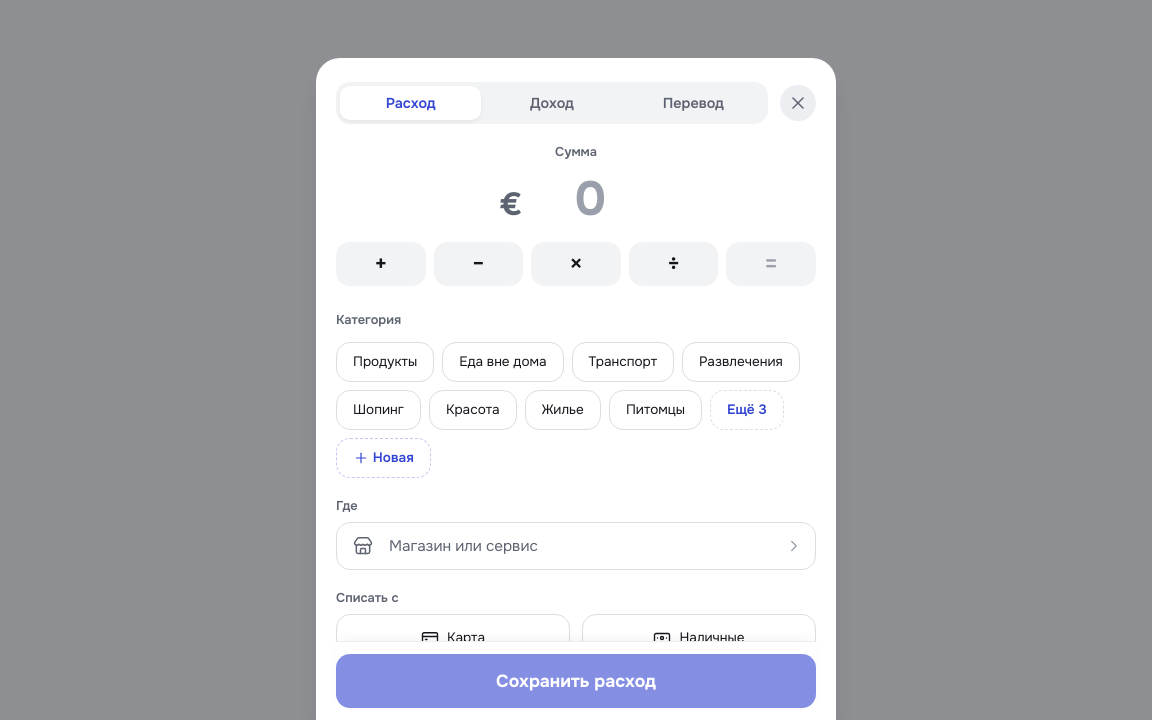
it: AddTransactionForm Component › validates required fields before enabling save button
Expected: the button "Сохранить расход" is disabled, [336,654,816,708]
// Fill amount
Type "100" into the field with placeholder "0" at x=590, y=199, box [526,168,653,230]
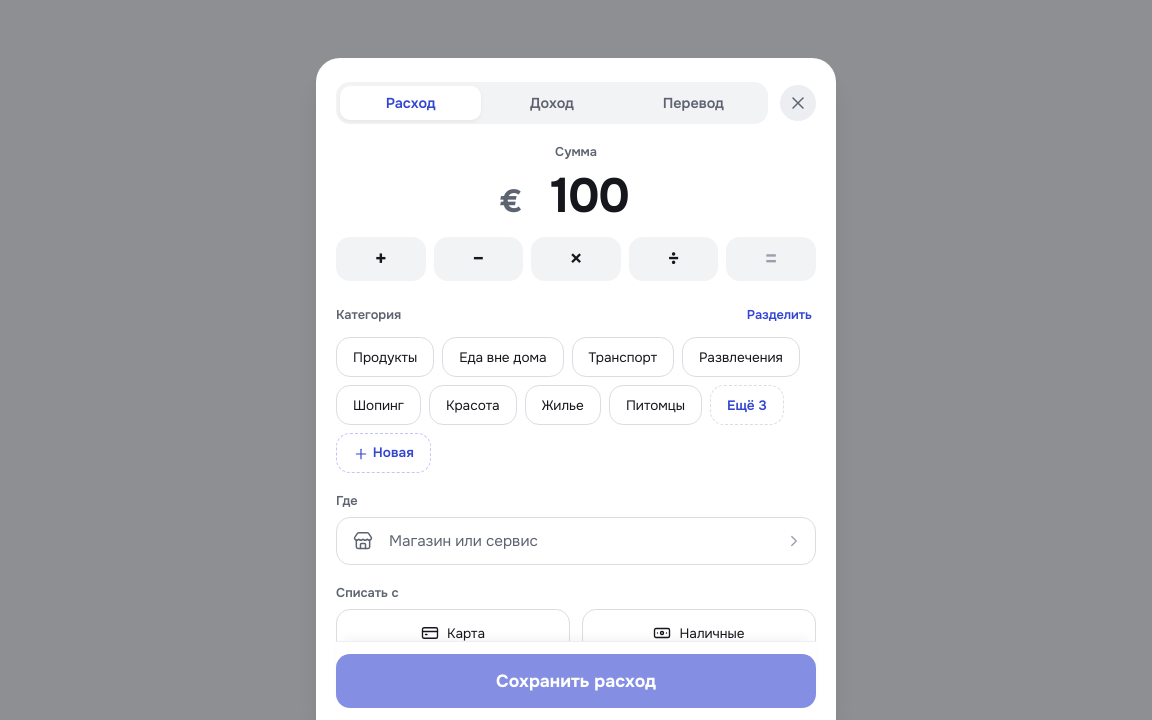
Expected: the button "Сохранить расход" is disabled, [336,654,816,708]
// Select category
Click the button "Продукты" at x=385, y=357, box [336,337,434,377]
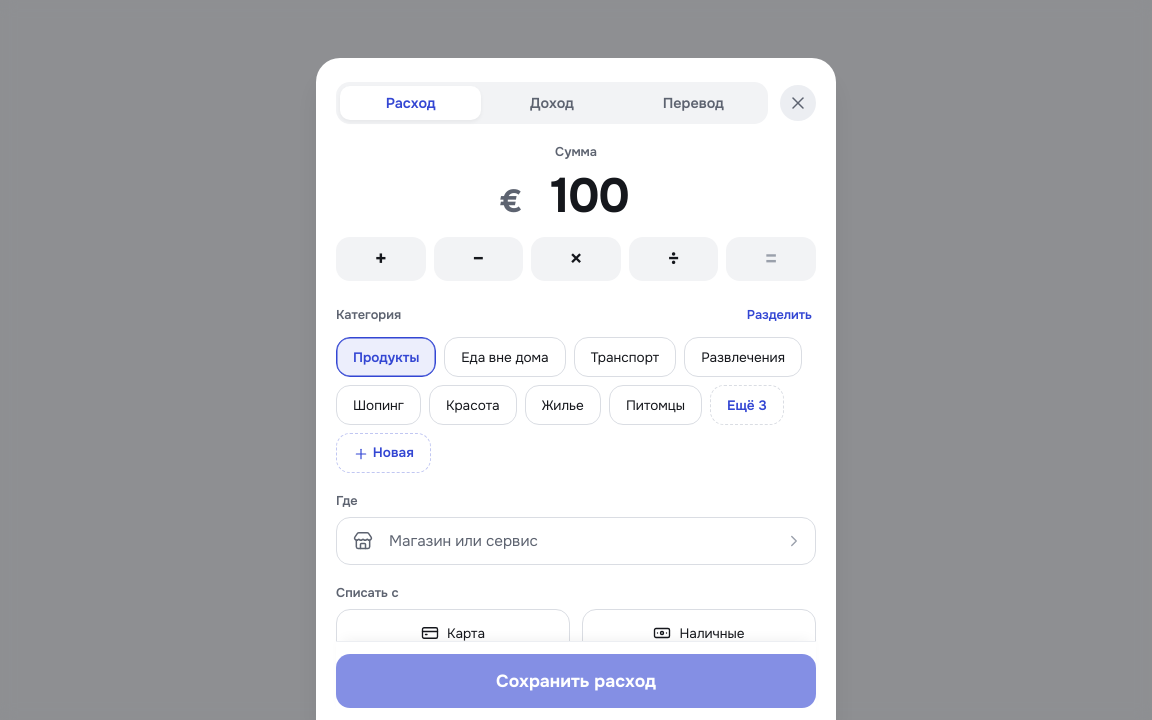
Expected: the button "Сохранить расход" is disabled, [336,654,816,708]
// Select account
Click the button "Карта" at x=453, y=633, box [336,609,570,657]
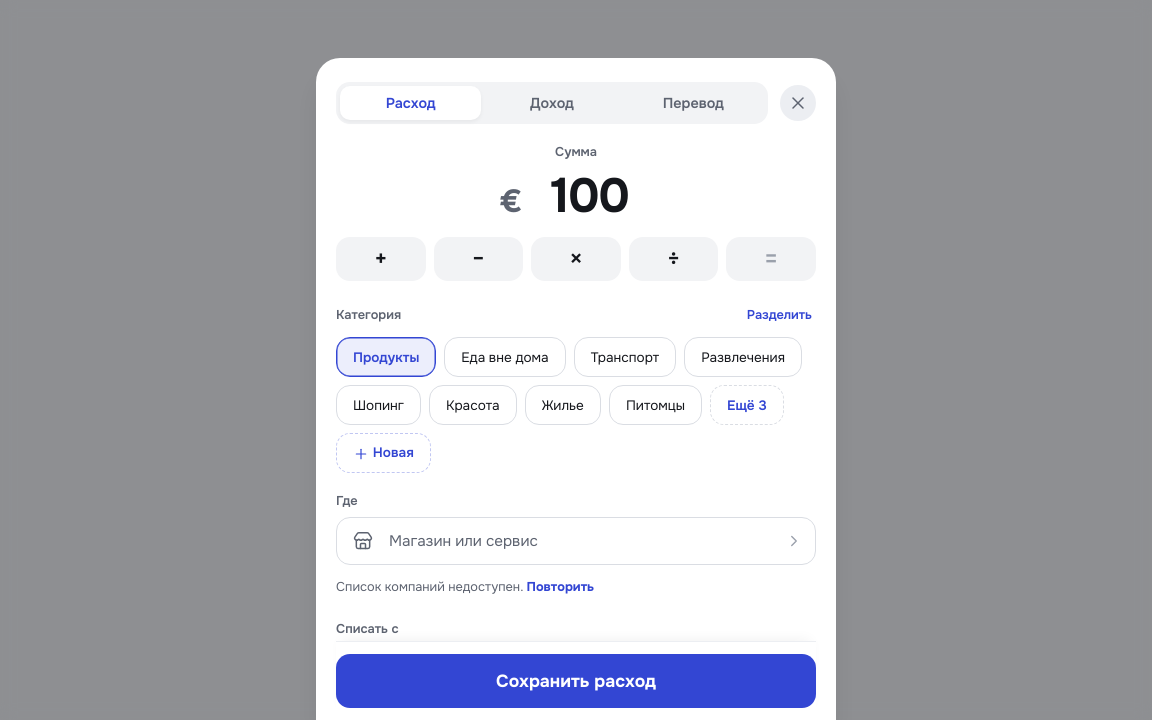
Result: the button "Сохранить расход" is enabled at [336,654,816,708]
